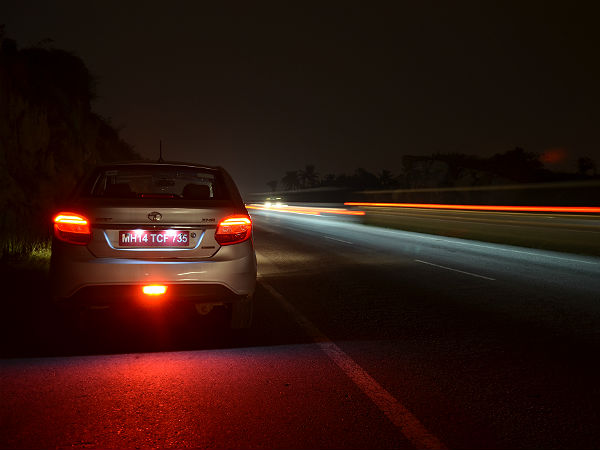number_plate: (115, 226, 194, 252)
